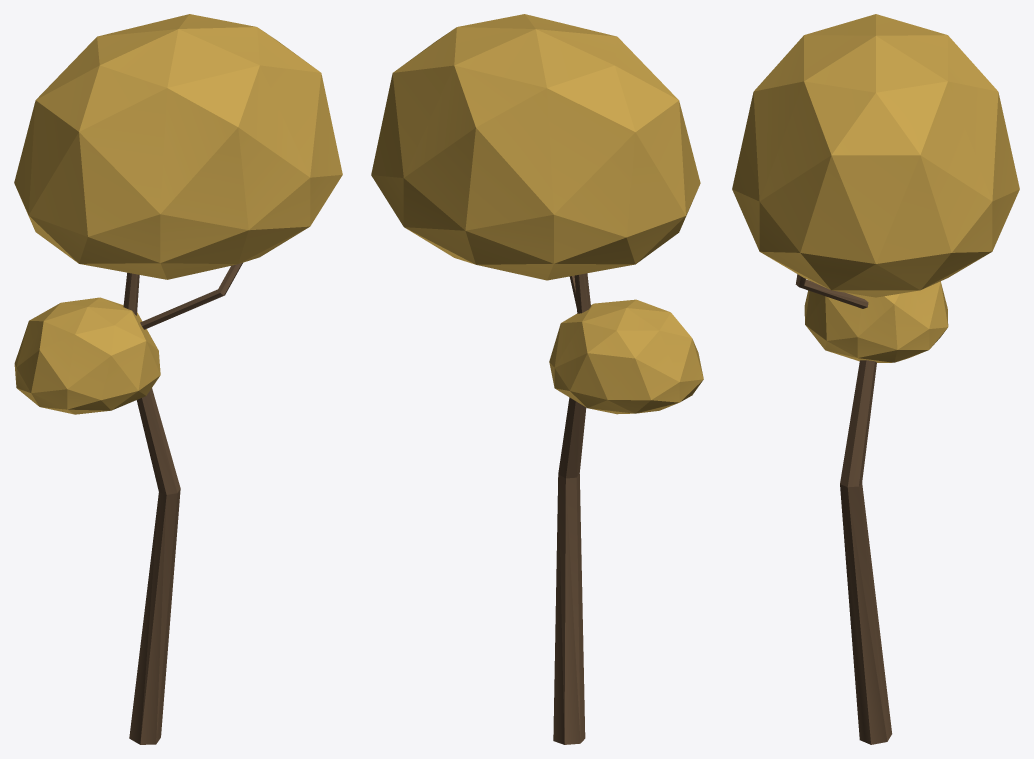
File: tree_yellow_4.glb
The picture shows the model from 3 angles, left to right: view 1: azimuth 30°, elevation 25°; view 2: azimuth 150°, elevation 25°; view 3: azimuth 270°, elevation 25°; orthographic projection. The views are drawn at different scales.
Visible parts, largest first — view 1: Tree Yellow 4.784; view 2: Tree Yellow 4.784; view 3: Tree Yellow 4.784.
Part boxes in pixels (x1,y1,x2,y2): Tree Yellow 4.784: [14, 14, 342, 744]; Tree Yellow 4.784: [371, 14, 703, 744]; Tree Yellow 4.784: [732, 14, 1019, 744].
Bounding box in the file's own units: 0.1914 × 0.4181 × 0.1516.
